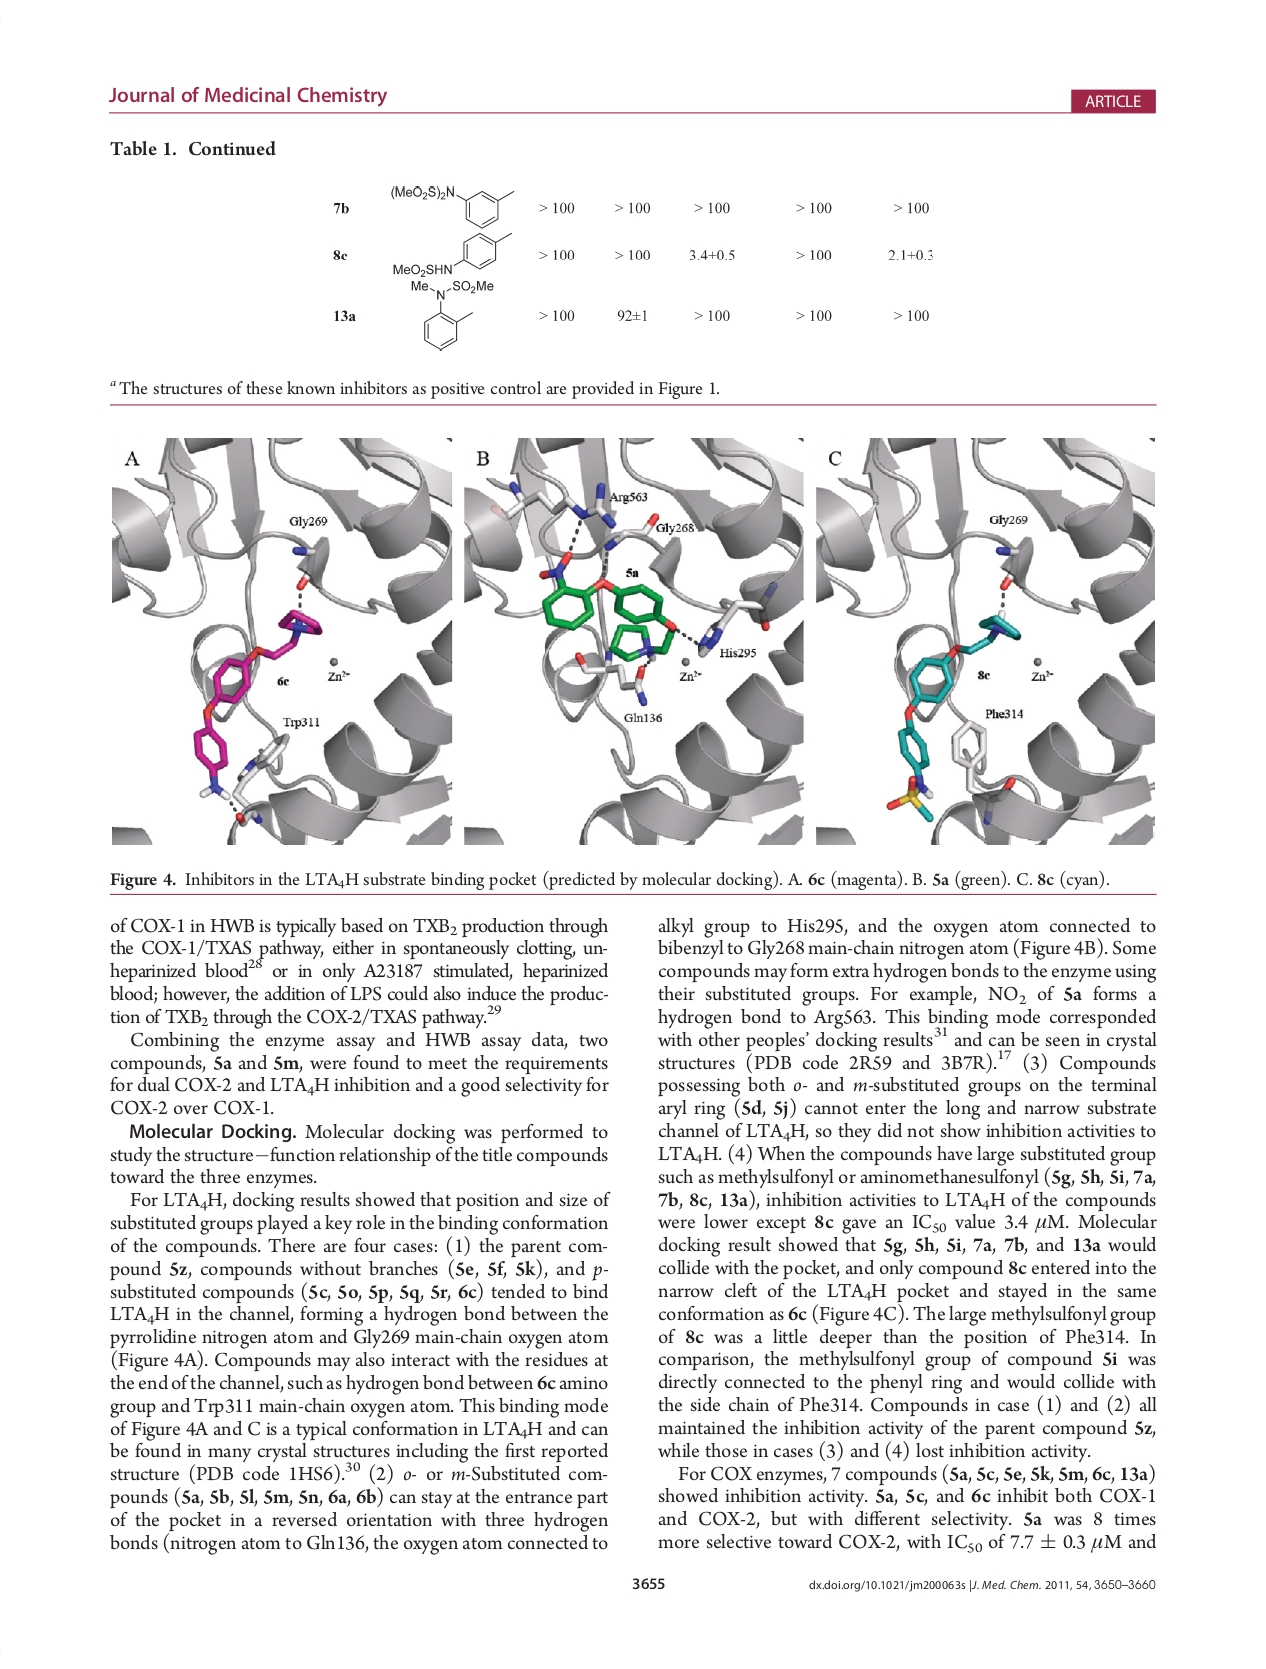exist_molecular: (402, 278, 496, 351), (390, 178, 517, 230), (390, 230, 515, 278)
